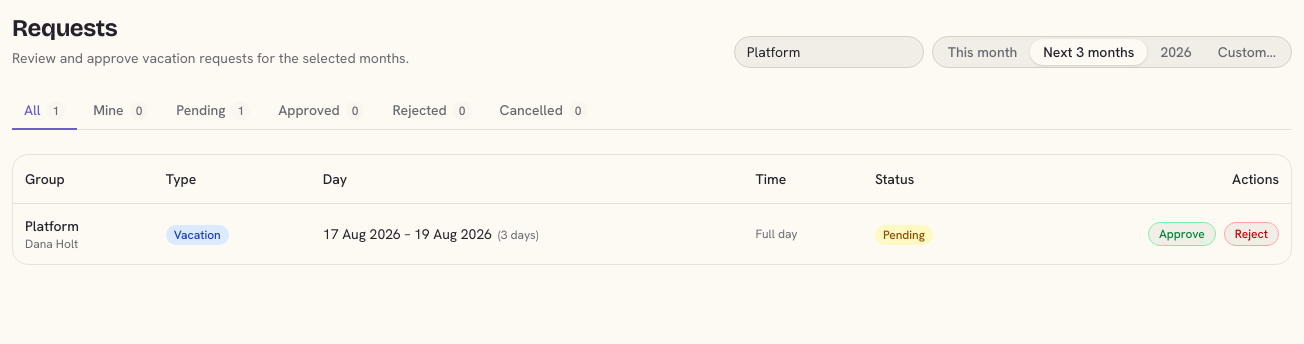
Test: RequestsPage action errors › clears the message once an action succeeds
Click the button "Approve": (1182, 234) [1148, 222, 1216, 246]
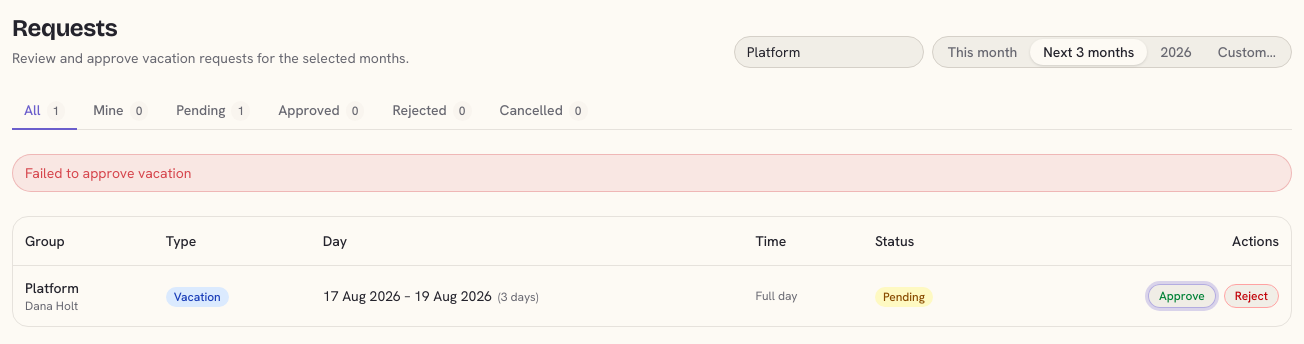
Now the message "Failed to approve vacation" is shown, box [12, 154, 1292, 192]
Click the button "Approve": (1182, 296) [1148, 284, 1216, 308]
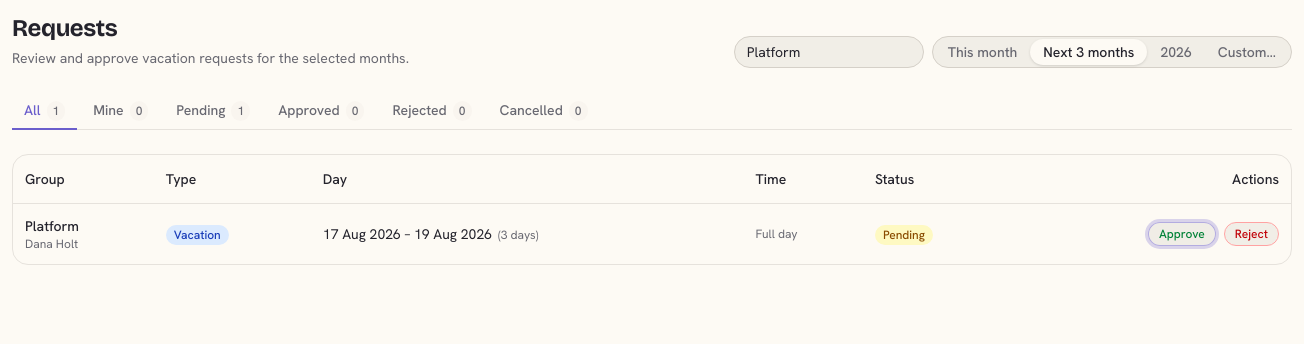
Now the message "Failed to approve vacation" is gone
